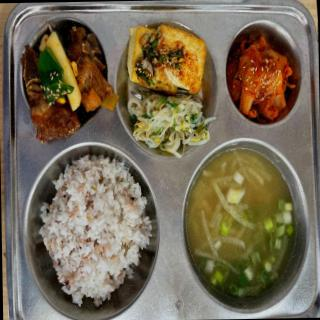Nasi: (40, 162, 150, 316)
